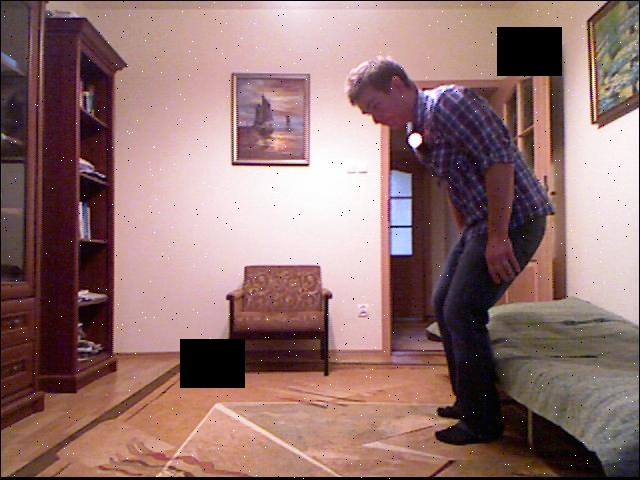bending: (369, 14, 547, 451)
